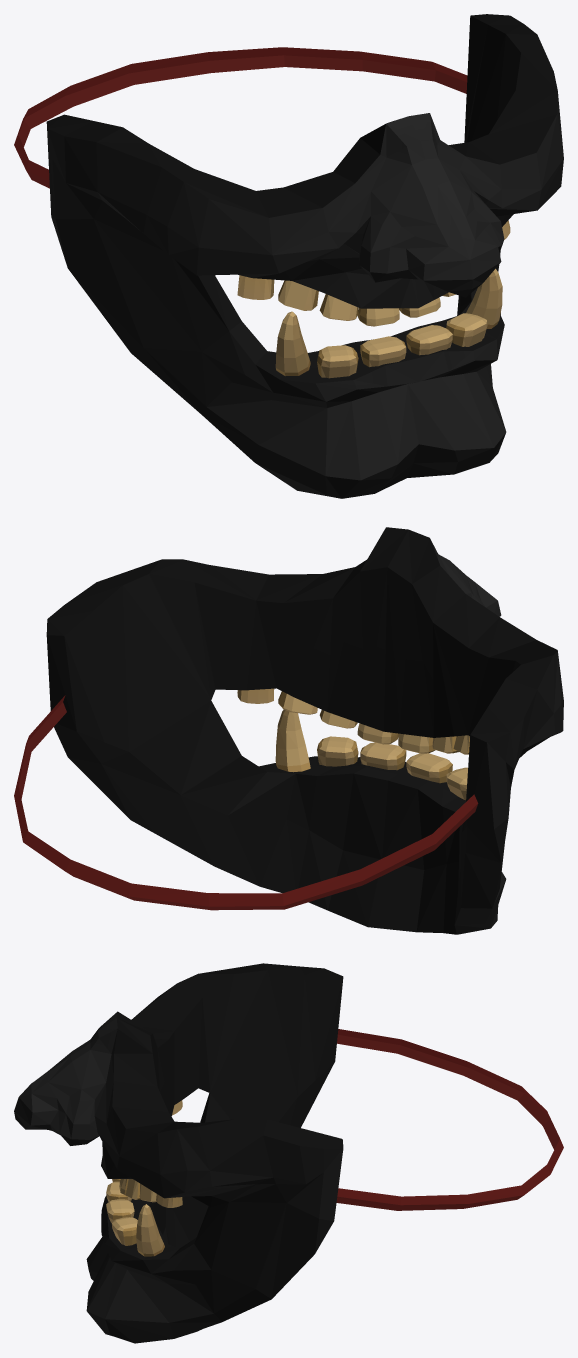
Rendered from tenguMaskBlackHalf.glb.
3 renders of one model, top to bottom at view 1: azimuth 30°, elevation 25°; view 2: azimuth 150°, elevation 25°; view 3: azimuth 270°, elevation 25°, orthographic. The views are drawn at different scales.
Visible parts, largest first — view 1: tenguMaskBlackHalf; view 2: tenguMaskBlackHalf; view 3: tenguMaskBlackHalf.
Part boxes in pixels (box(x1,y1,x2,y2)): tenguMaskBlackHalf: box(14, 14, 563, 498); tenguMaskBlackHalf: box(14, 527, 563, 934); tenguMaskBlackHalf: box(14, 963, 563, 1343).
Size of the model in its own units: 0.2526 by 0.1916 by 0.325.
